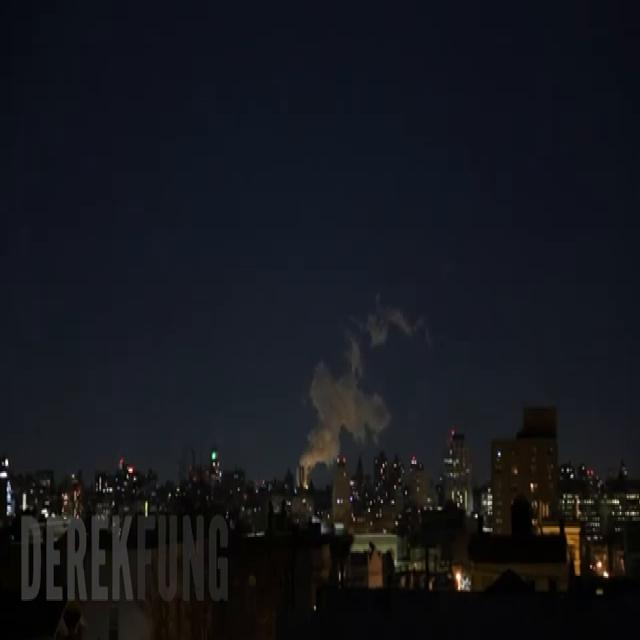smoke: (300, 295, 422, 464)
